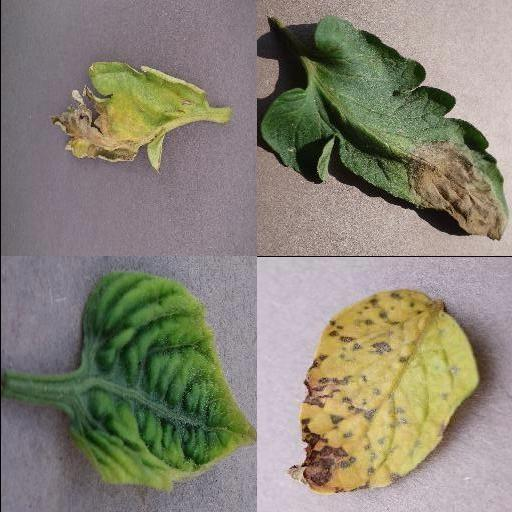Late Blight: (256, 16, 510, 242), (50, 62, 212, 172)
Septoria: (286, 288, 478, 494)
Yellow Leaf Curl Virus: (68, 270, 256, 493)
